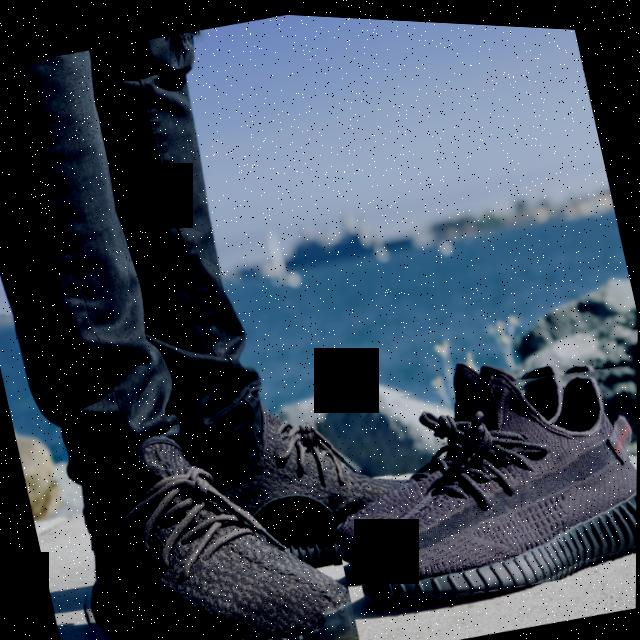shoe: (321, 329, 638, 620), (47, 409, 362, 640)
